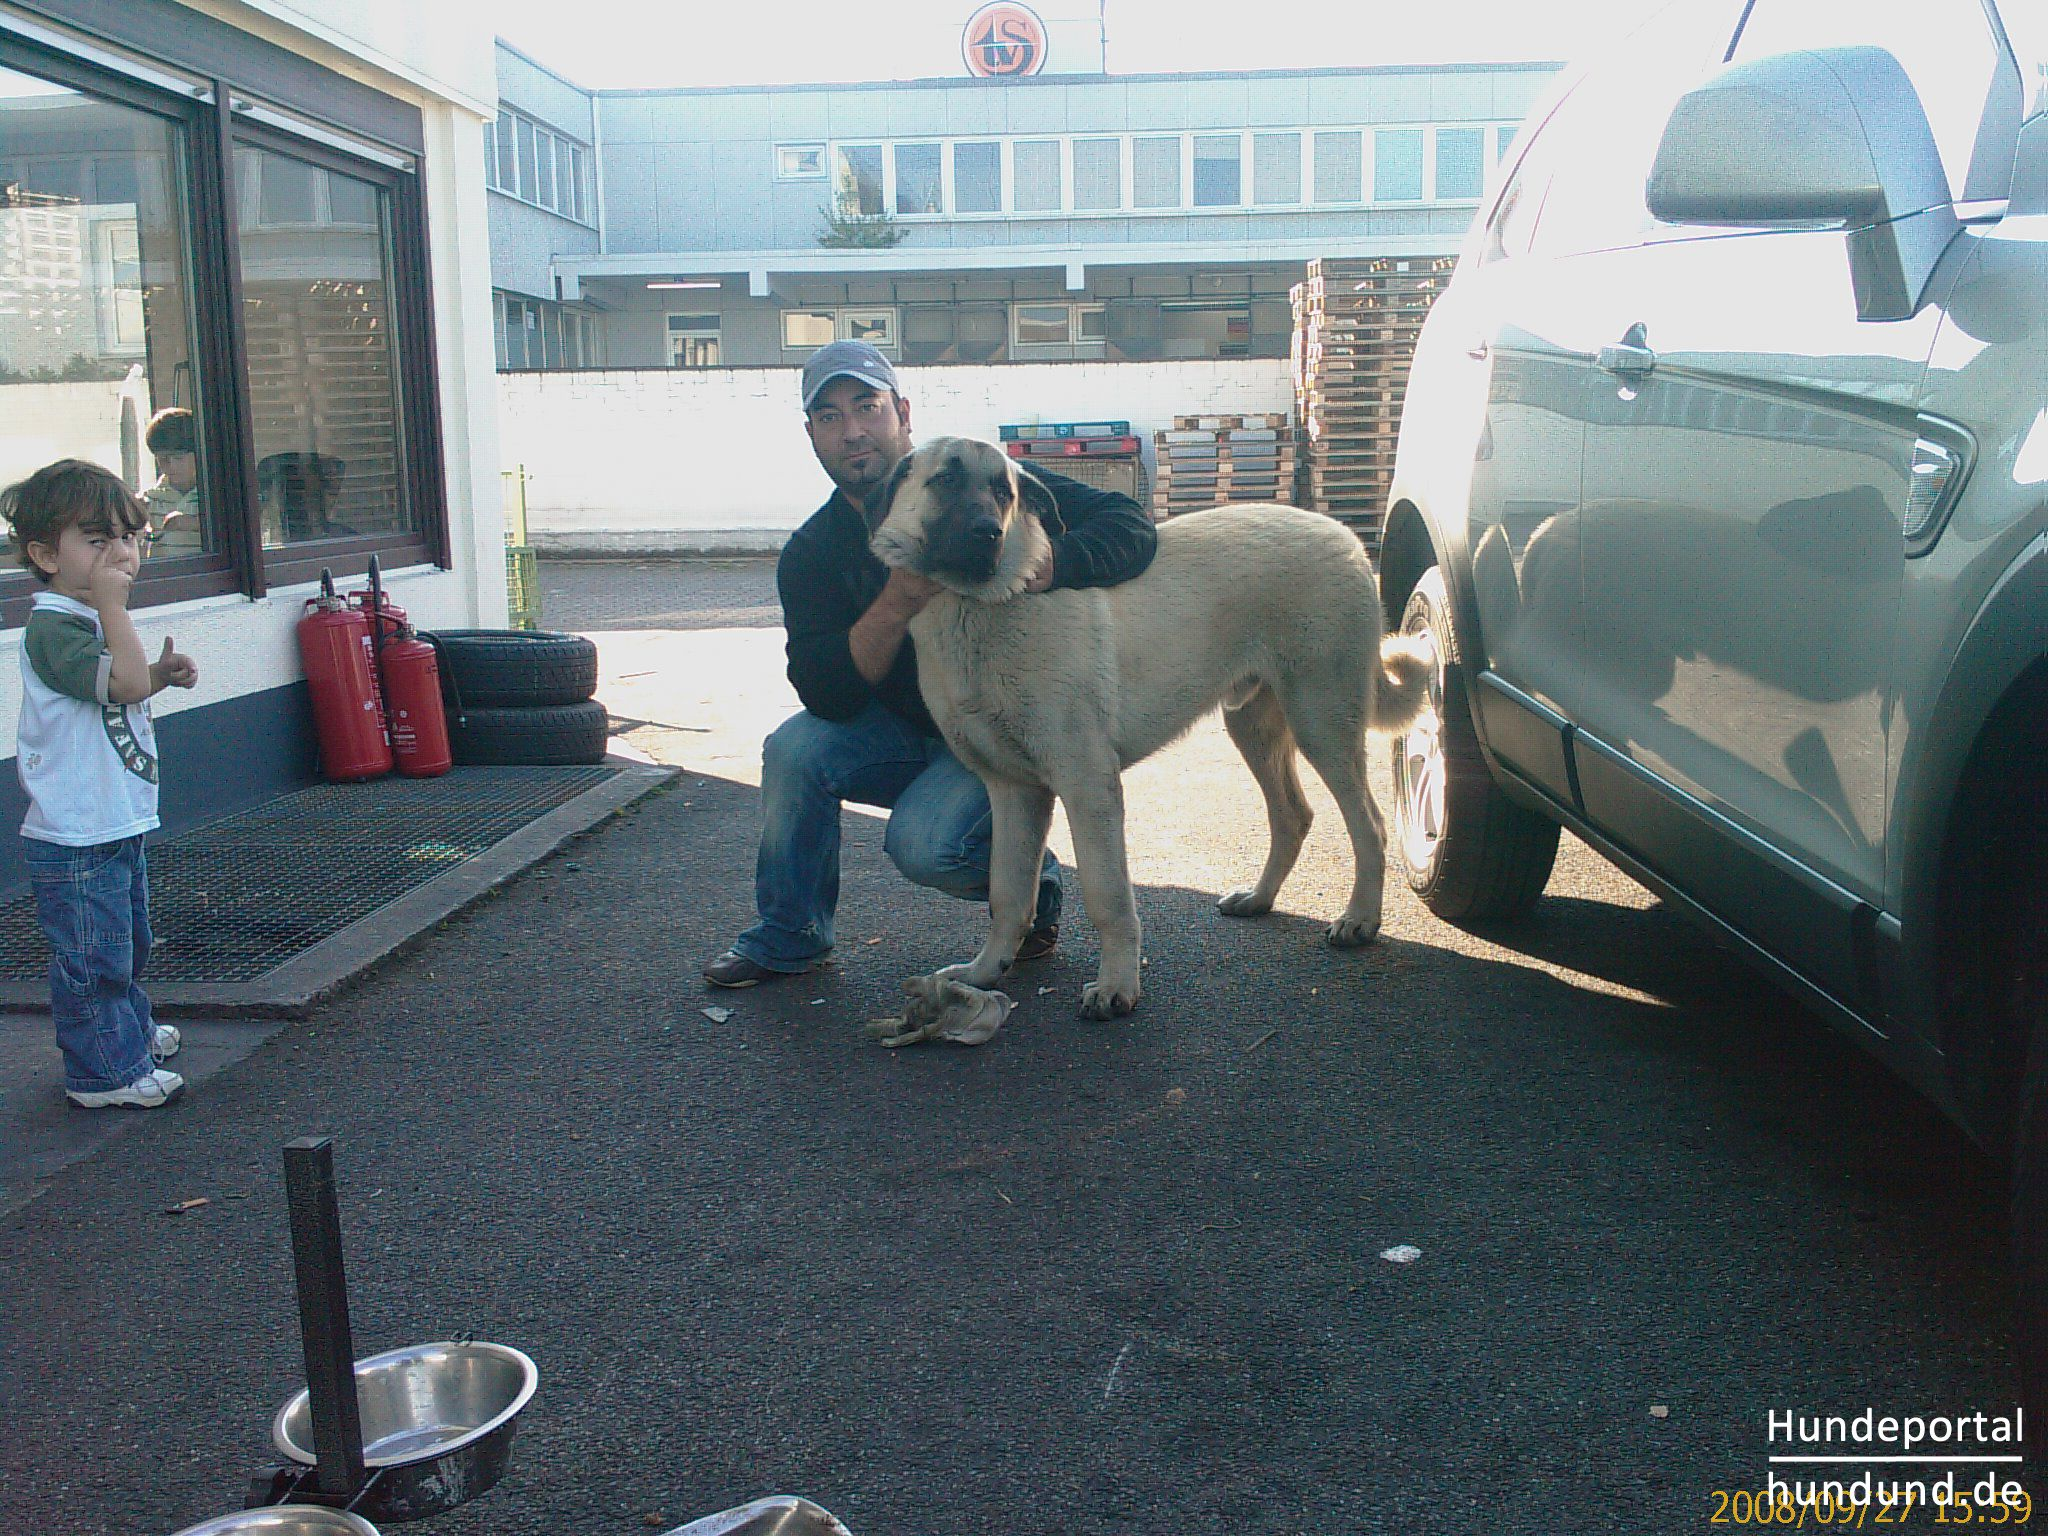human_face: (804, 394, 916, 491), (18, 523, 141, 600)
kangal: (866, 435, 1433, 1023)
person: (697, 339, 1157, 987), (2, 456, 201, 1110)
